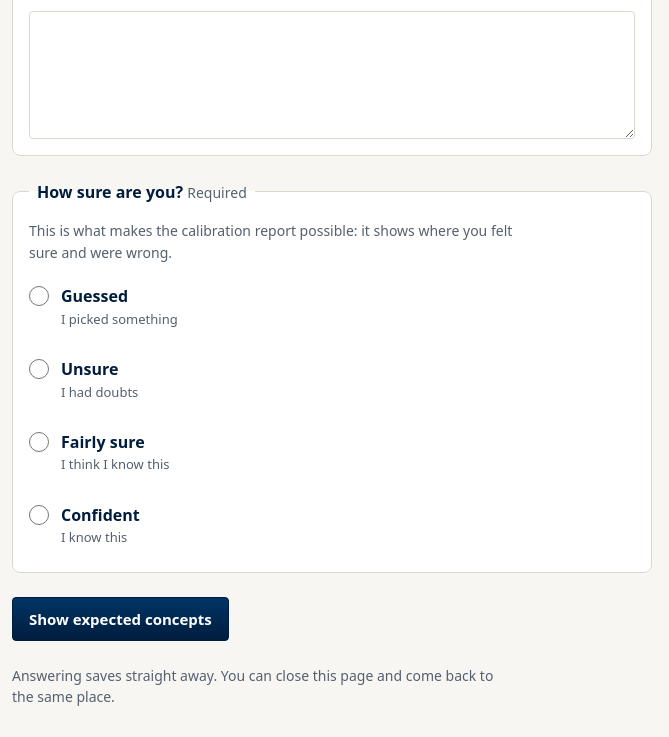
Test: AnswerForm › short answer › reveals the concepts and then offers both verdicts
This screenshot has width=669, height=737.
Click the button "Show expected concepts" at (120, 618), box [12,596,229,640]
(page scrolled)
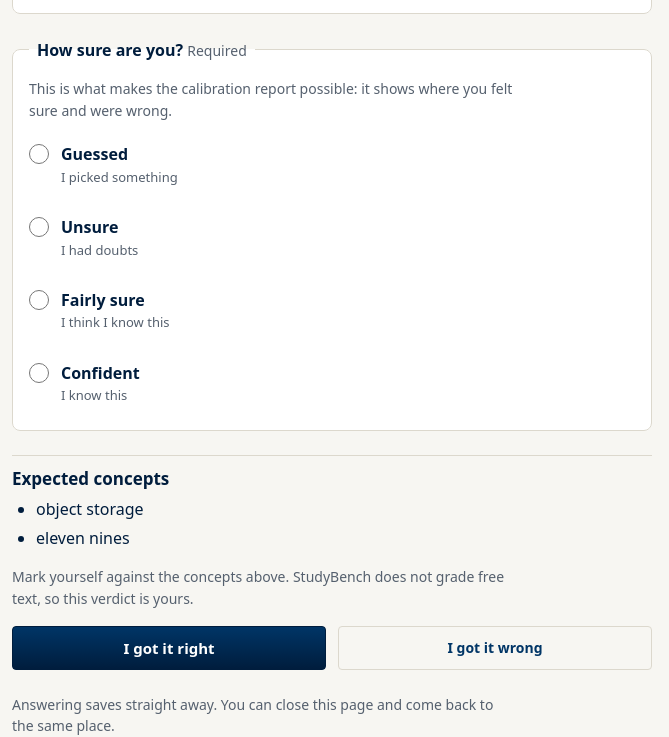
Result: the list item "object storage" is shown at [36,498,144,520]
Result: the list item "eleven nines" is shown at [36,527,130,549]
Result: the button "I got it right" is shown at [12,626,326,670]
